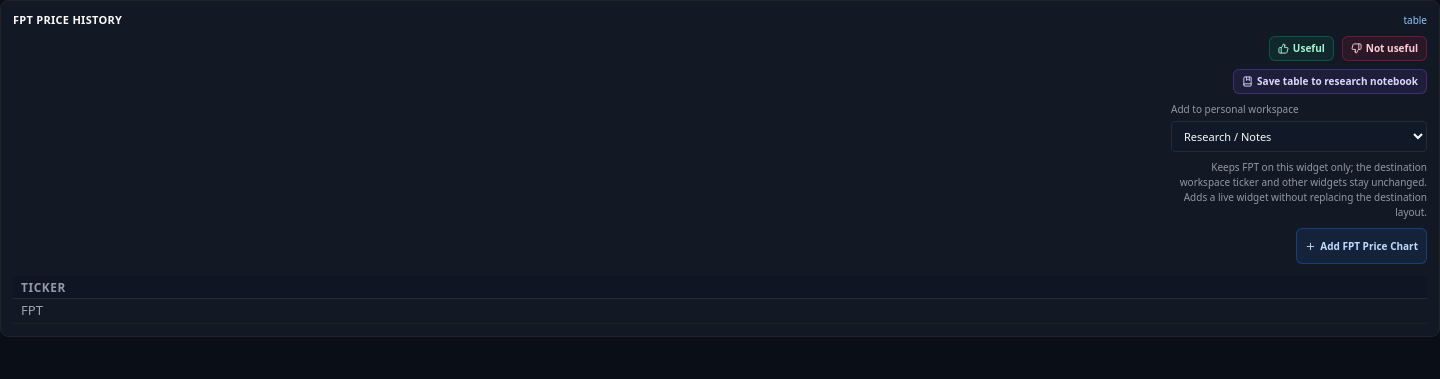
Test: artifact placement › does not change the shared ticker or navigate when adding fails
What coordinates should you click on to do the following:
click the button "Add FPT Price Chart"
I would click on:
 (1362, 246)
Its box is [1296,228,1427,264].
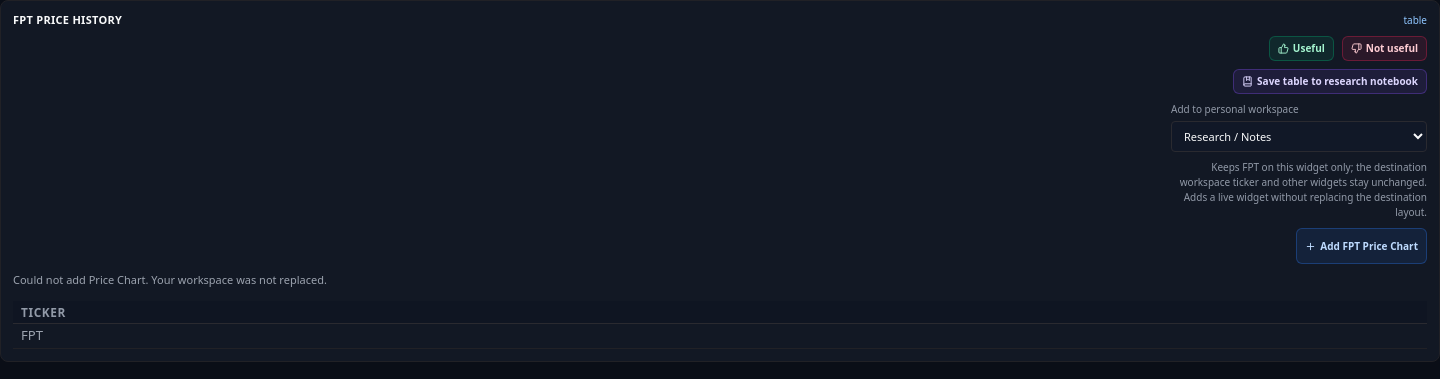
Expected: the message "Could not add Price Chart. Your workspace was not replaced." is shown, [13,272,327,287]
